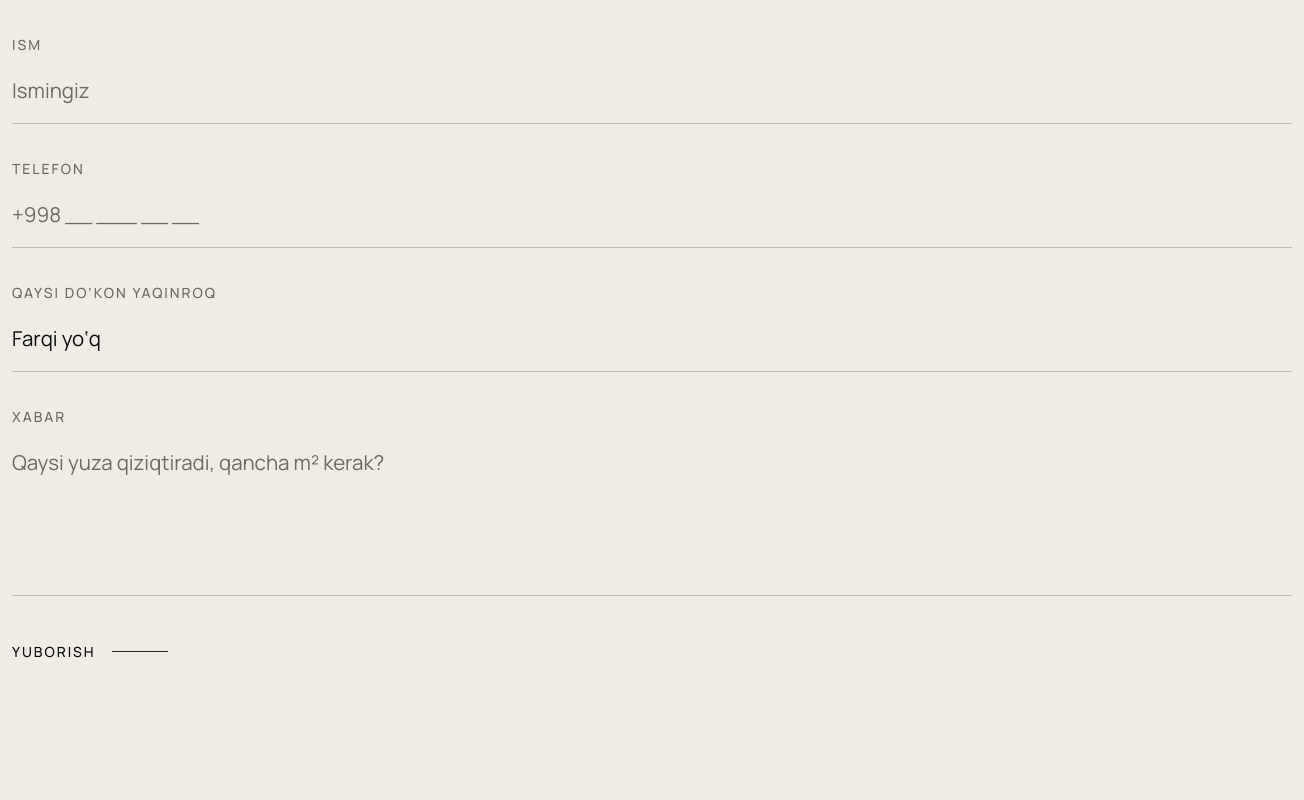
Test case: Forma — yuborilgach ma’lumotnoma chiqadi, tanlangan do‘kon ketadi
Expected: the dropdown labelled "Qaysi do‘kon yaqinroq" is shown, [12, 306, 1292, 372]
Type "Aziz" into the field labelled "Ism" at (652, 91), box [12, 58, 1292, 124]
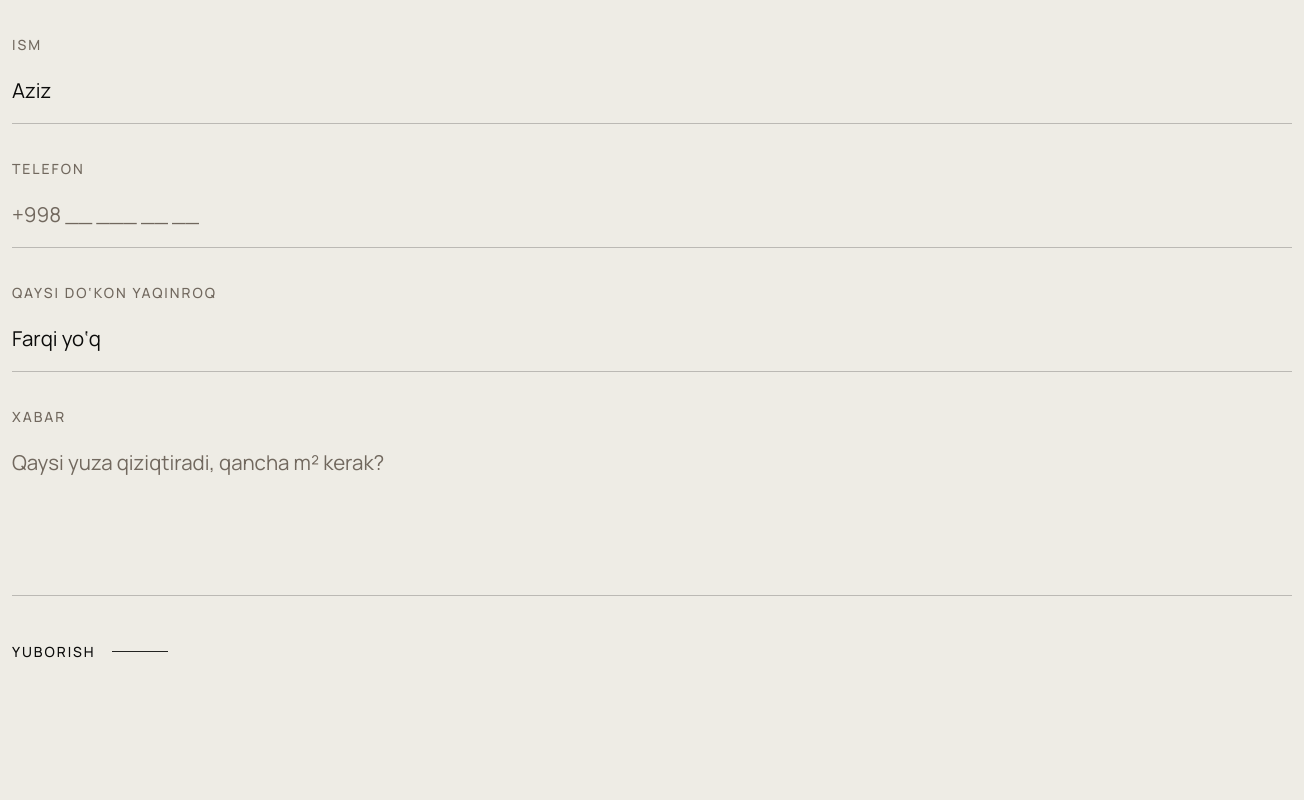
Type "+998 90 123 45 67" into the field labelled "Telefon" at (652, 215), box [12, 182, 1292, 248]
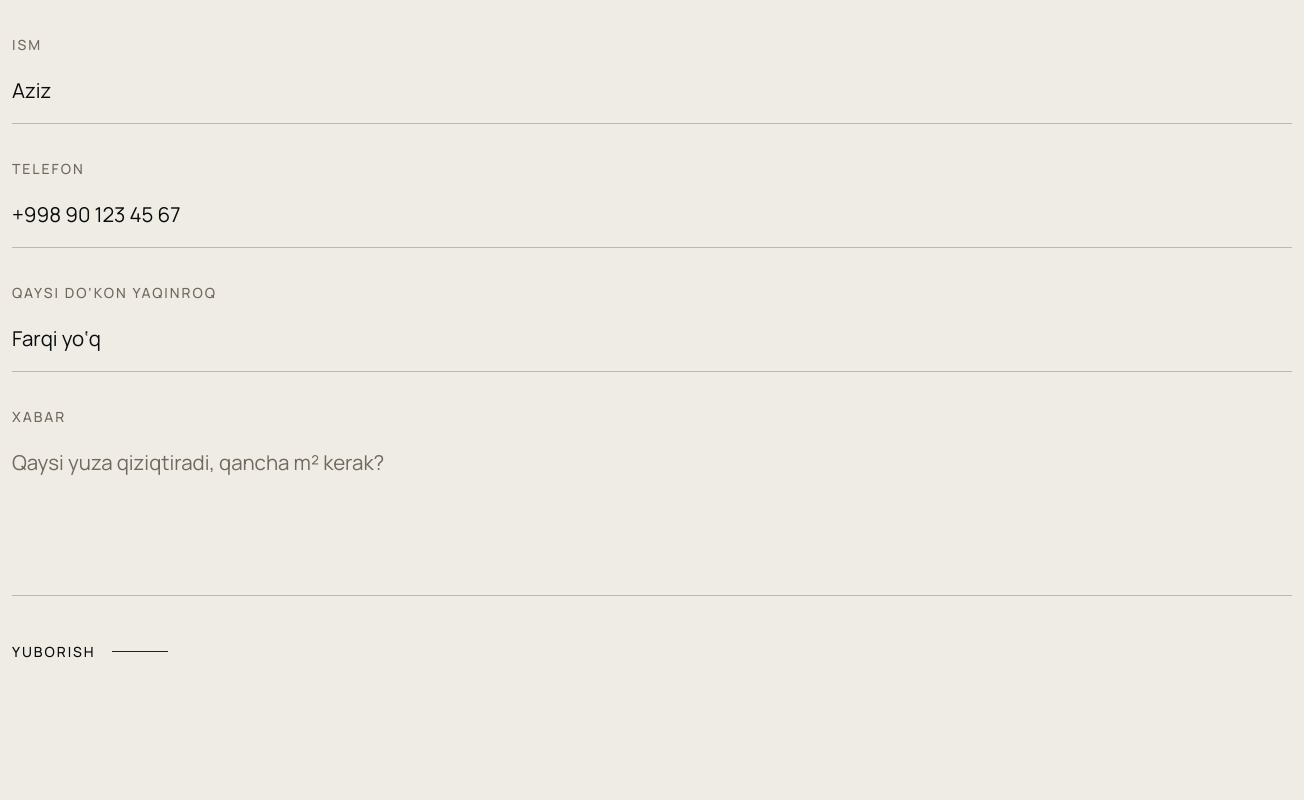
Select "Andijon" in the dropdown labelled "Qaysi do‘kon yaqinroq" at (652, 339), box [12, 306, 1292, 372]
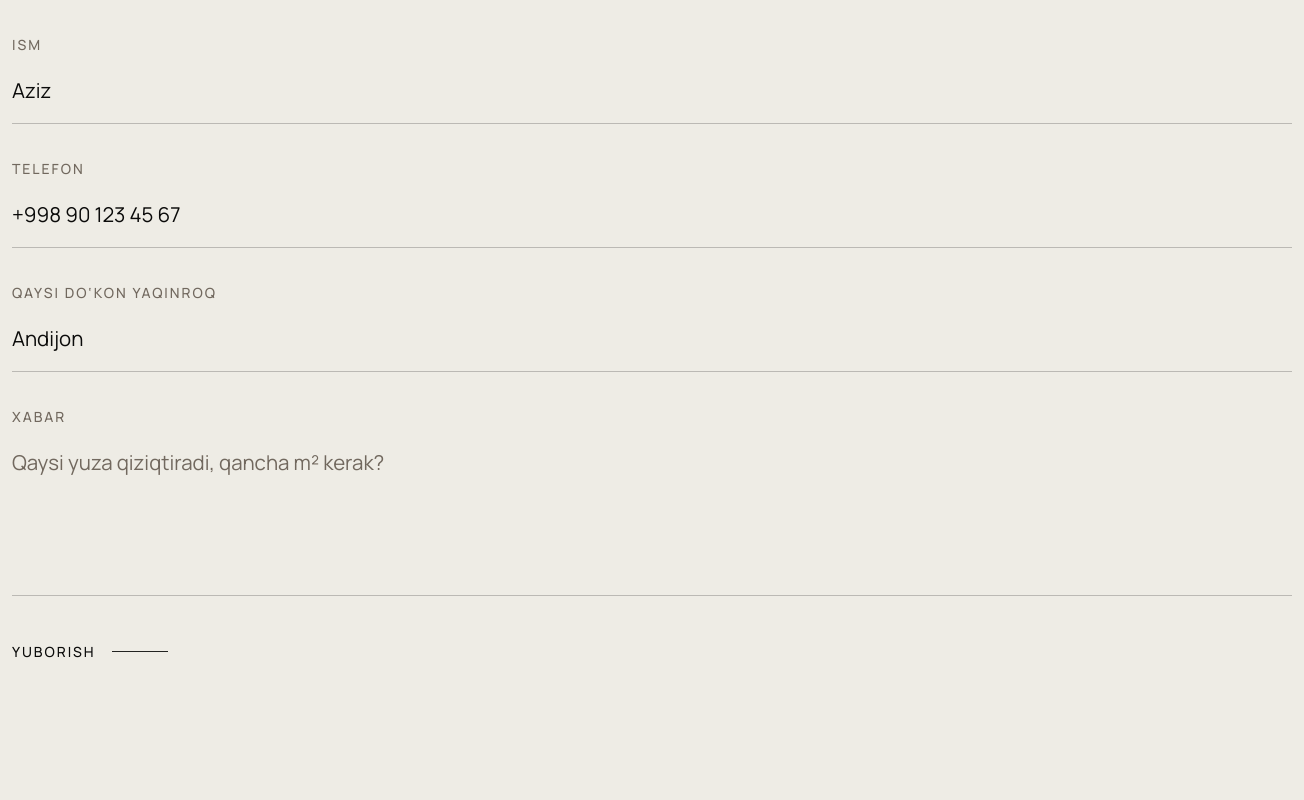
Type "Hammomga 20 m² kerak" into the text box labelled "Xabar" at (652, 513), box [12, 430, 1292, 596]
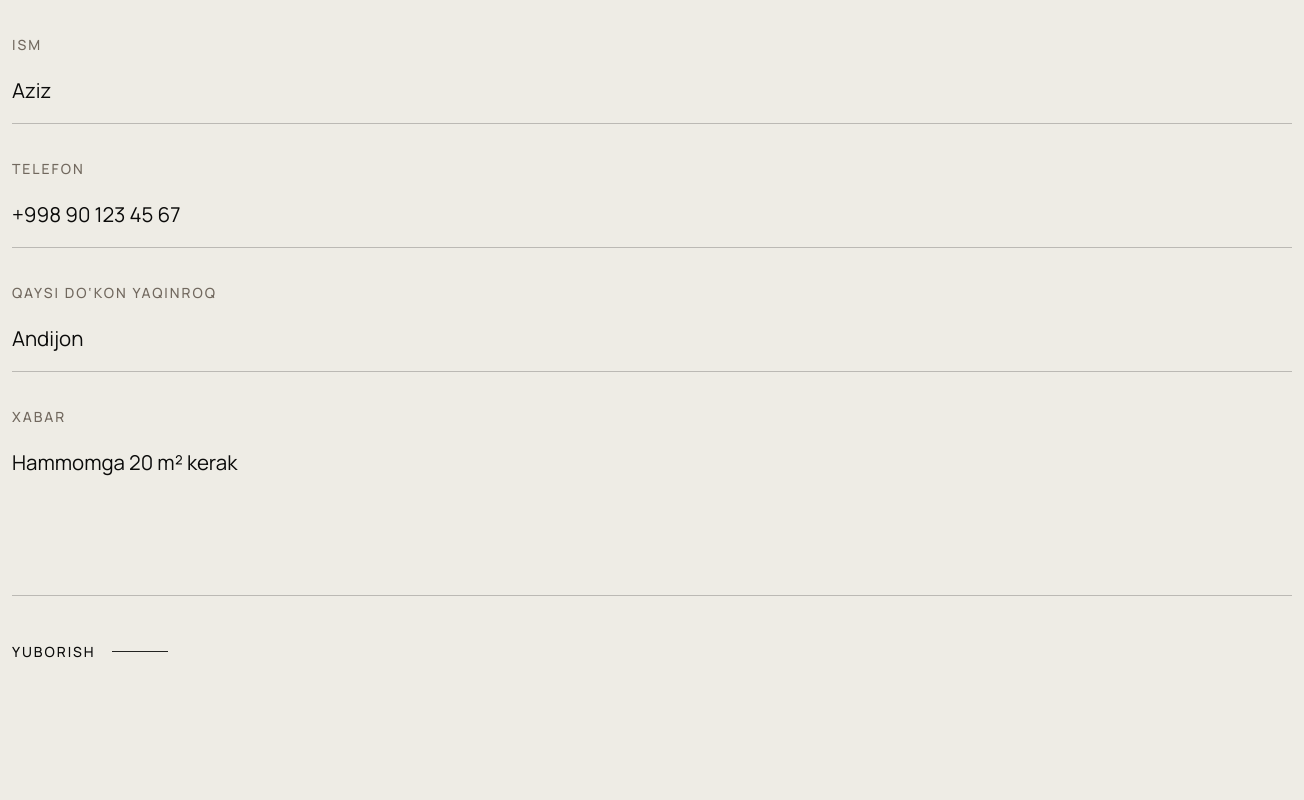
Click the button "Yuborish" at (90, 651), box [12, 644, 168, 659]
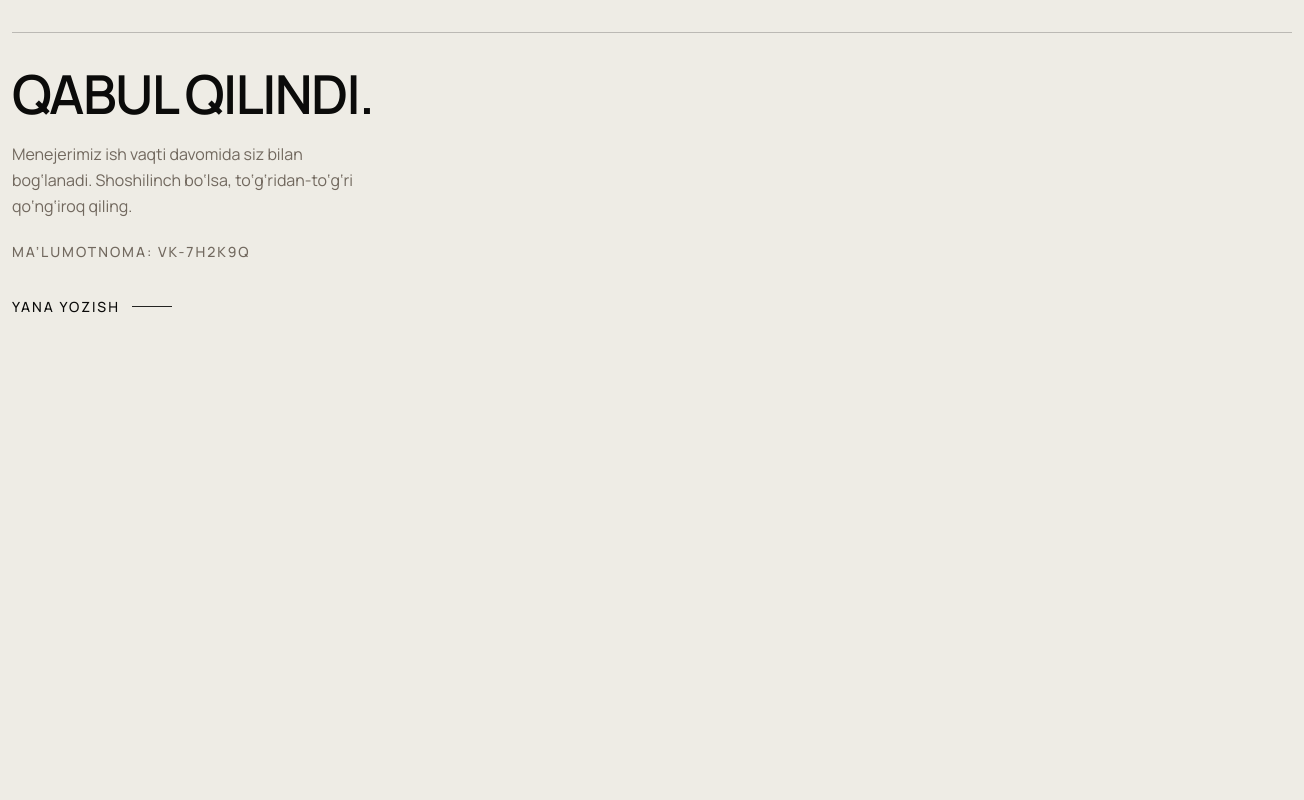
Expected: the text "Qabul qilindi." is shown, [12, 57, 373, 130]
Expected: the text "Ma’lumotnoma: VK-7H2K9Q" is shown, [12, 242, 251, 261]
